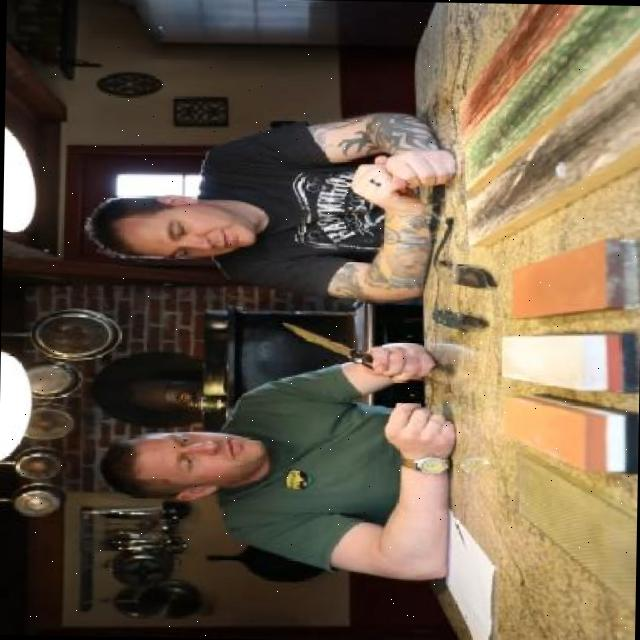Knife: (272, 314, 389, 396), (428, 306, 489, 344), (435, 256, 496, 288)
